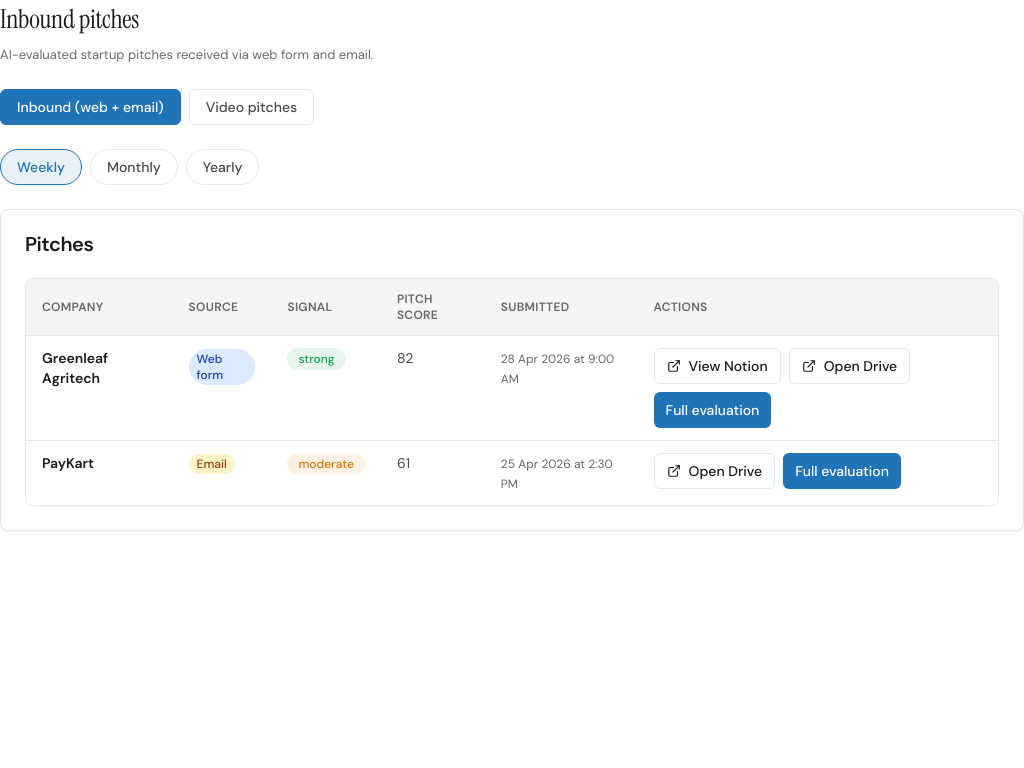
AdminInboundPitchesPage — drawer › shows an error state inside the drawer when detail fetch fails
The width and height of the screenshot is (1024, 768).
Click the button with test id "eval-00000000-0000-4000-8000-000000000aa1". click: (712, 410)
box: left=654, top=392, right=771, bottom=428
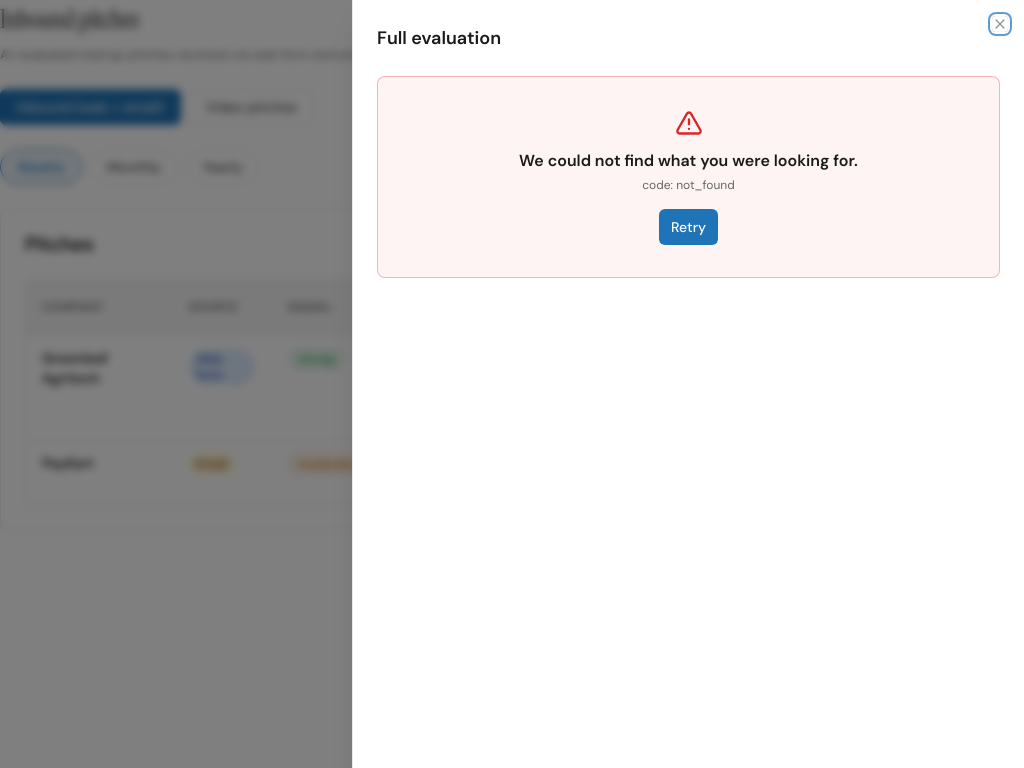
Expected: the dialog with test id "pitch-detail-drawer" is shown
